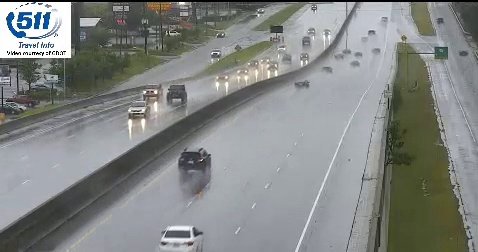car: (158, 226, 204, 252), (178, 147, 210, 172)
